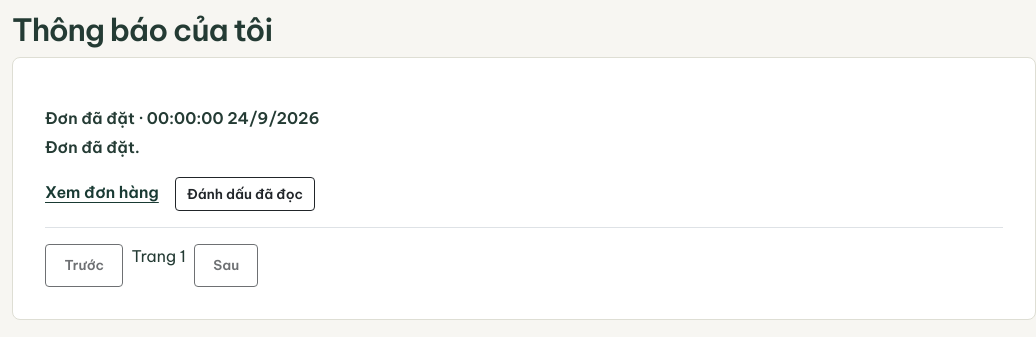
Test: đánh dấu thông báo đã đọc qua API rồi tải lại
Click the button "Đánh dấu đã đọc".
click(245, 194)  # box [175,177,315,211]
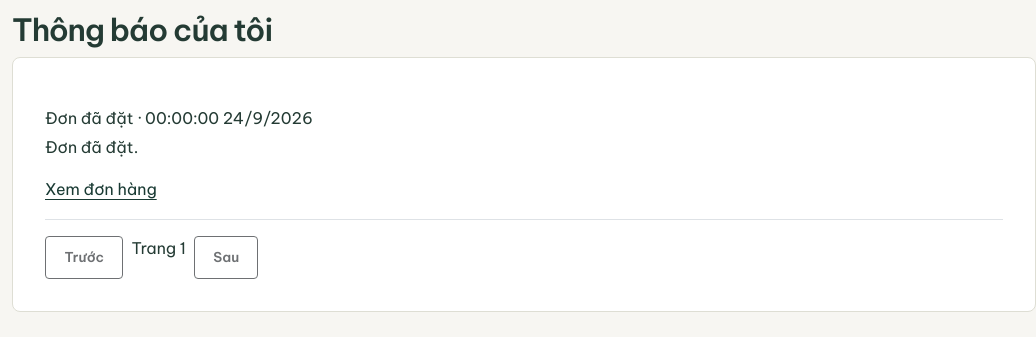
expect the button "Đánh dấu đã đọc" is gone: met
